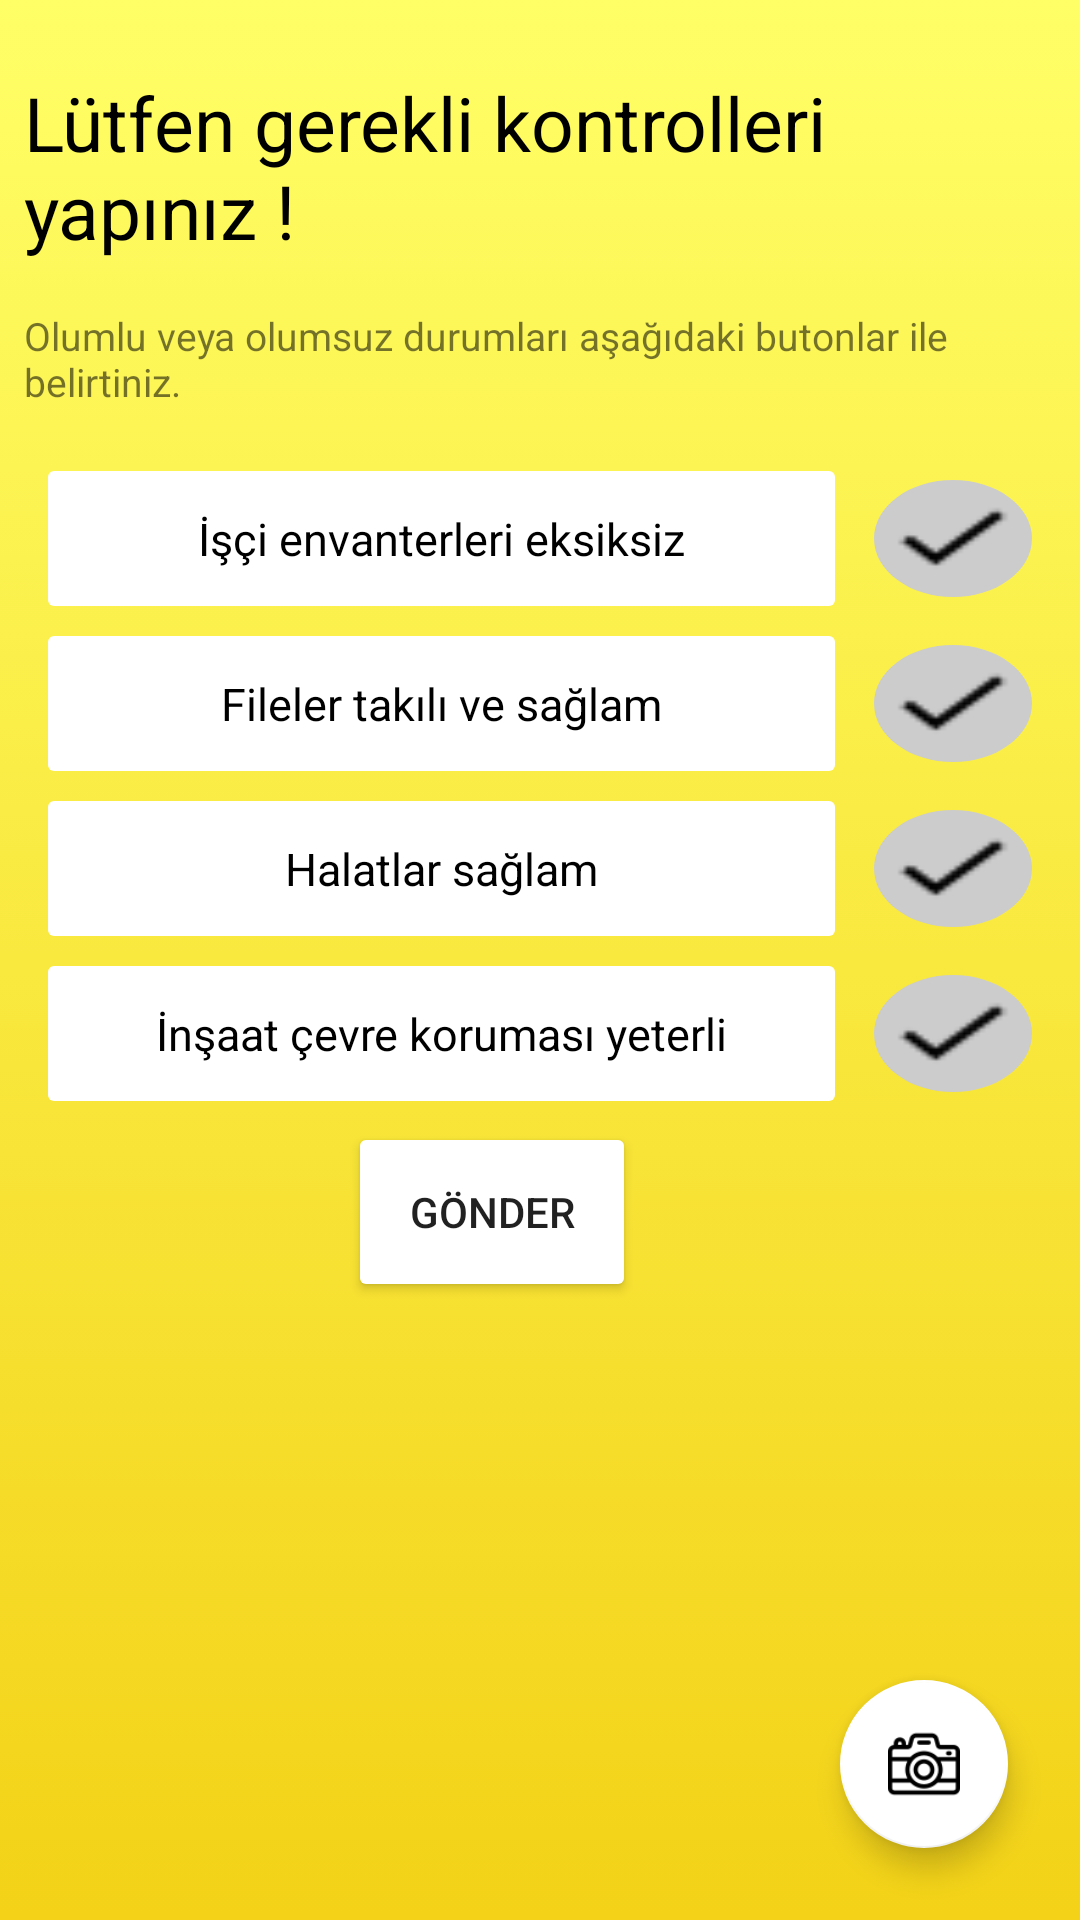

Icons on this 1080*1920 Android screen, each with the point to tap as (x,y):
camera: (924,1764)
checkmark: (953,538), (953,703), (953,868), (953,1033)
